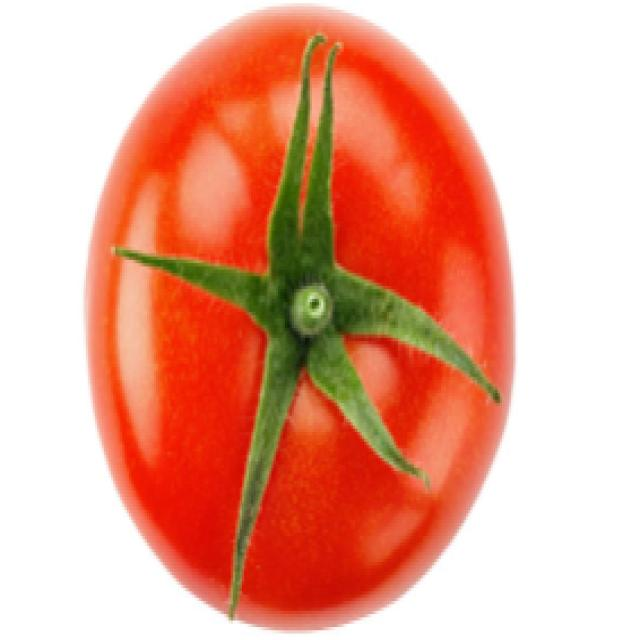Tomato: (78, 14, 520, 630)
